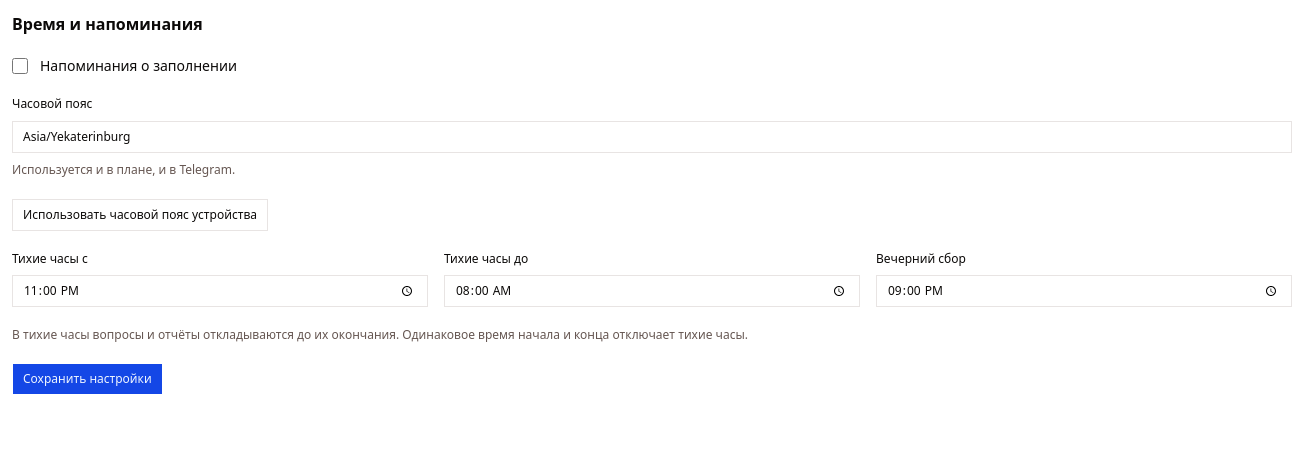
Test: reminder settings › submits the chosen timezone and times without read-only response fields
This screenshot has width=1304, height=453.
Step 1. Click the checkbox labelled "Напоминания о заполнении" → [20, 66], box left=12, top=58, right=28, bottom=74
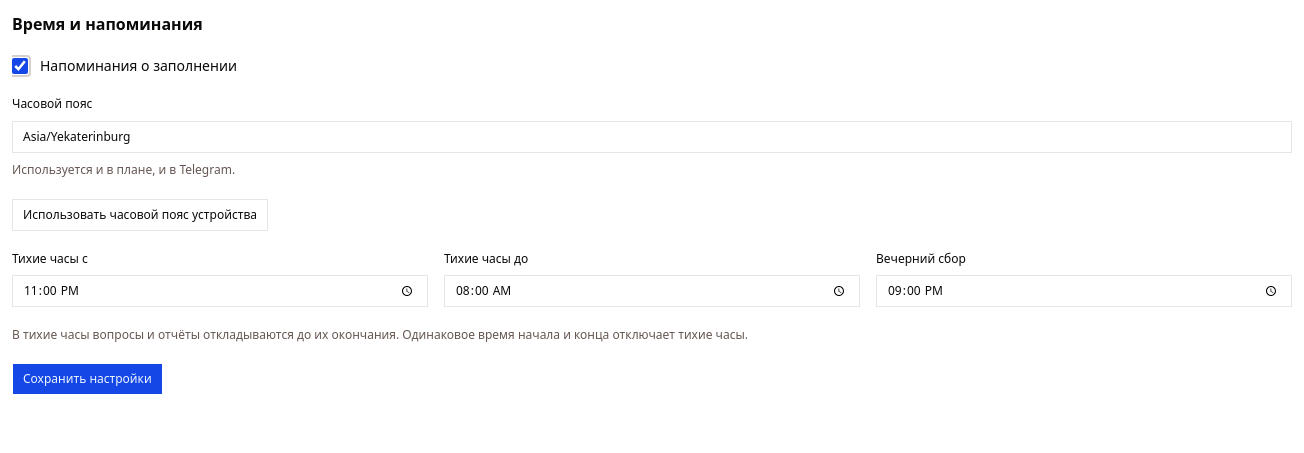
Step 2. Replace the text in the field labelled "Часовой пояс" with "Europe/Moscow" → [652, 136], box left=12, top=120, right=1292, bottom=152
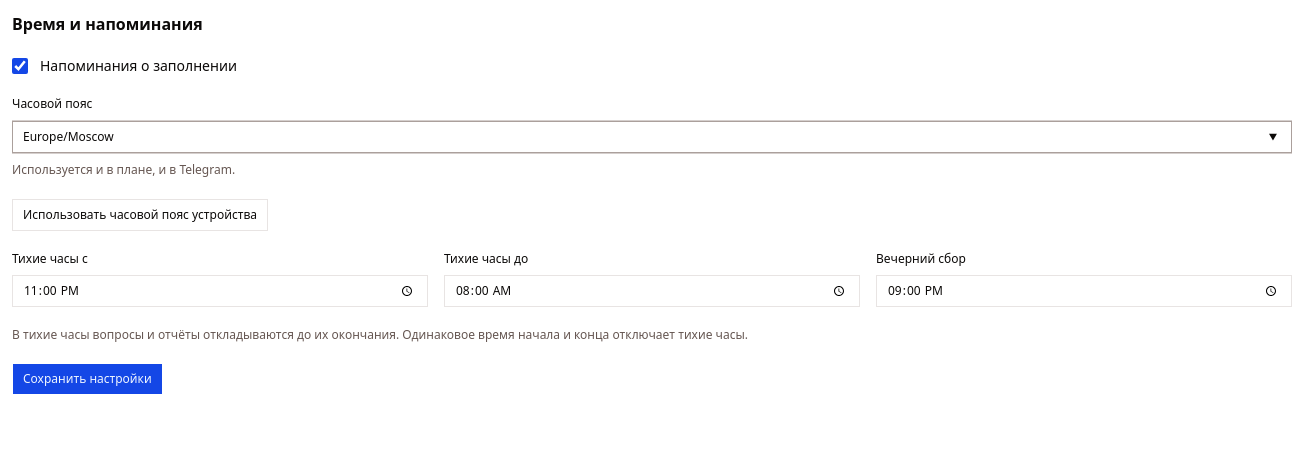
Step 3. Click the 2nd button named "Сохранить настройки" → [87, 379], box left=12, top=363, right=163, bottom=395
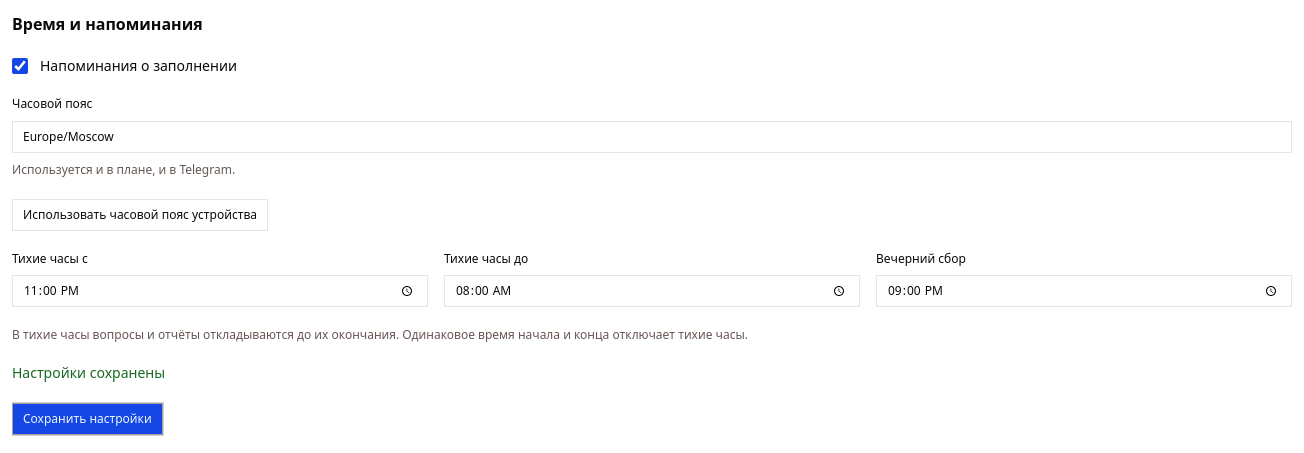
Now the message reads "Настройки сохранены", box left=12, top=363, right=165, bottom=382
